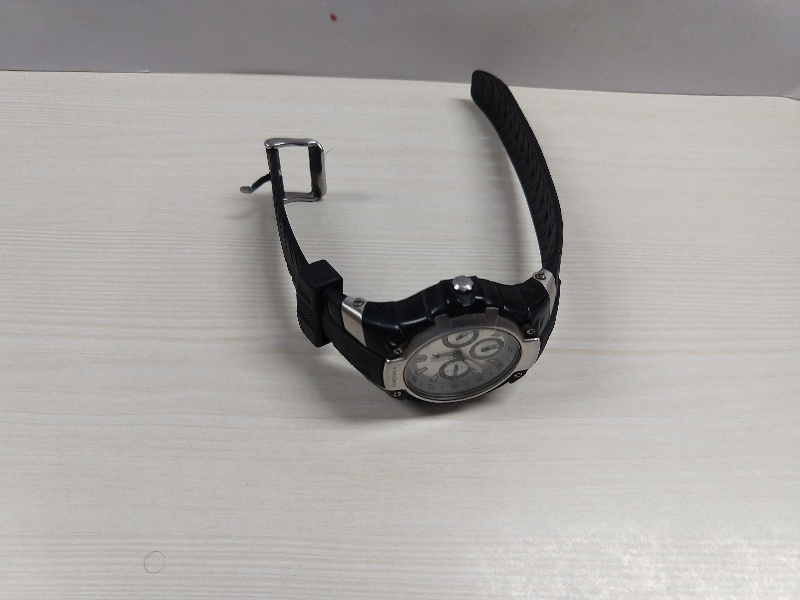watch: (237, 56, 571, 415)
